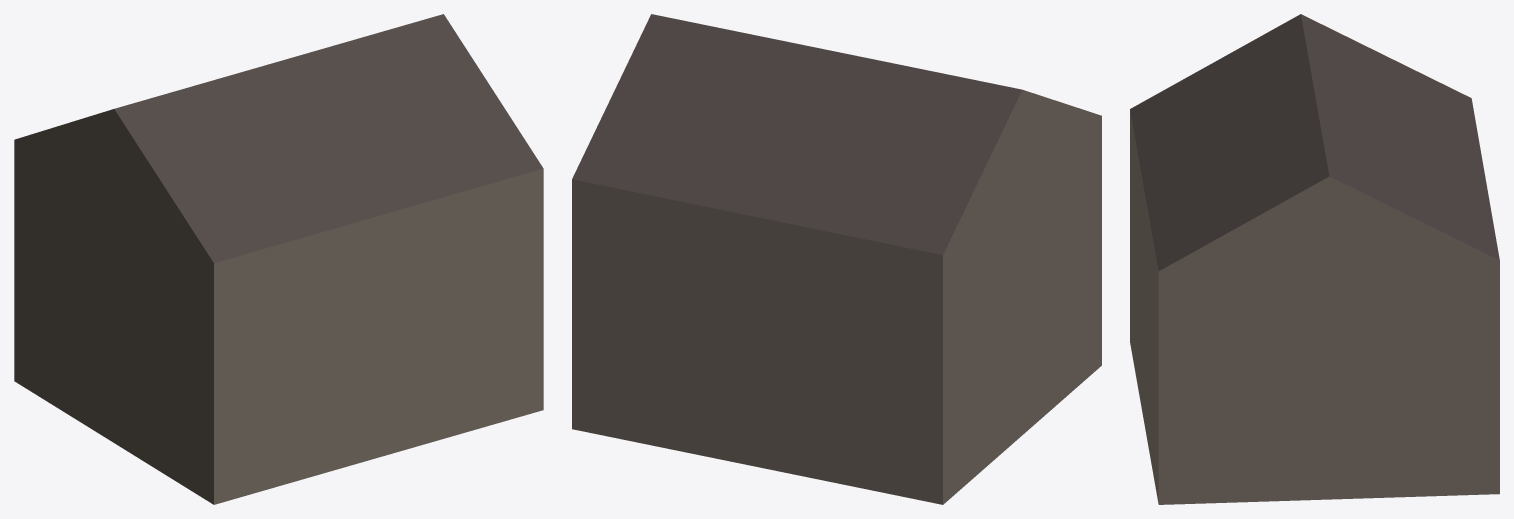
3 renders of one model, left to right at view 1: azimuth 30°, elevation 25°; view 2: azimuth 150°, elevation 25°; view 3: azimuth 270°, elevation 25°, orthographic. The views are drawn at different scales.
Visible parts, largest first — view 1: HP-w369317550; view 2: HP-w369317550; view 3: HP-w369317550.
Part boxes in pixels (x1,y1,x2,y2): HP-w369317550: (14, 14, 543, 504); HP-w369317550: (572, 14, 1101, 504); HP-w369317550: (1130, 14, 1499, 504).
Bounding box in the file's own units: 14.32 × 12.45 × 12.92.
